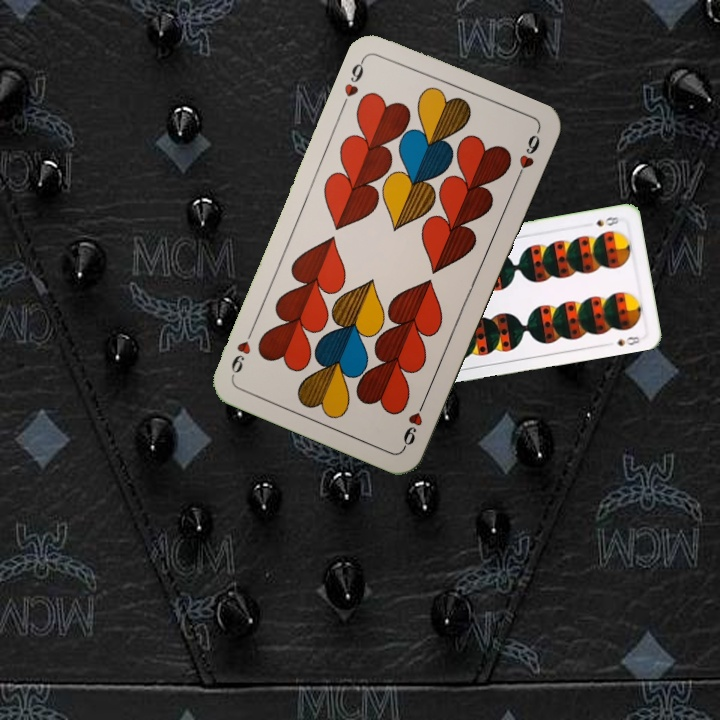H9: (399, 394, 429, 451), (340, 54, 368, 99)
S8: (592, 213, 621, 229)
